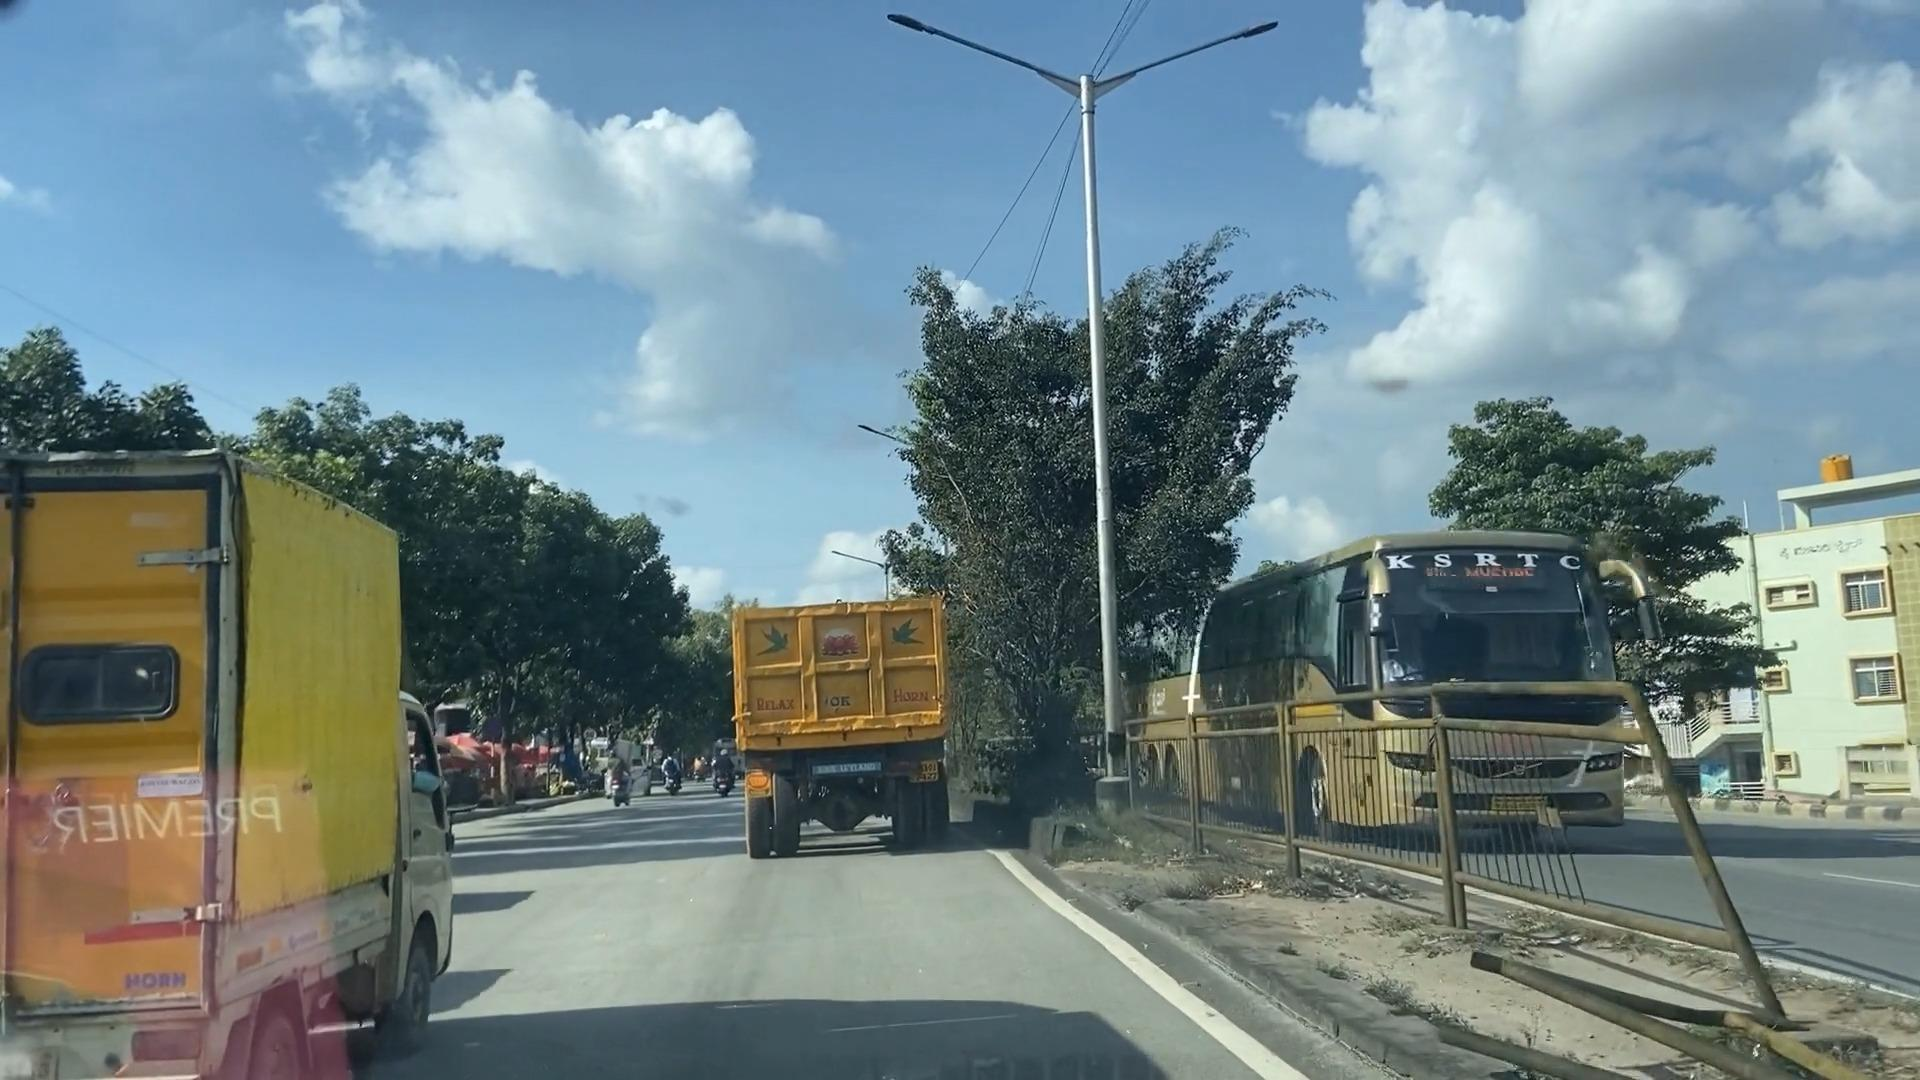HMV: (9, 462, 458, 1077), (733, 595, 963, 845)
